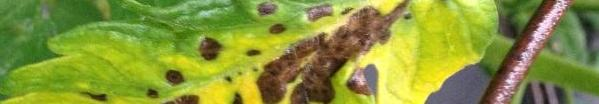Tomato leaf bacterial spot: (0, 0, 515, 104)
